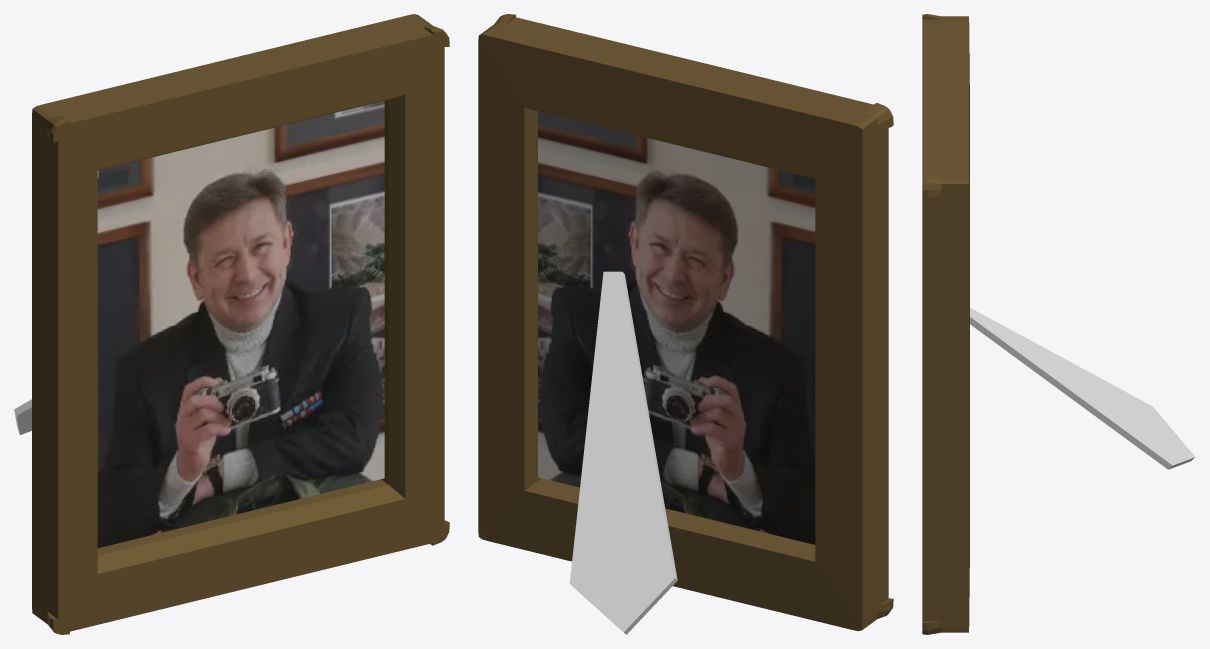
The model's file is portrait_01.glb.
3 renders of one model, left to right at view 1: azimuth 30°, elevation 25°; view 2: azimuth 150°, elevation 25°; view 3: azimuth 270°, elevation 25°, orthographic. The views are drawn at different scales.
Parts seen in each view (by area): view 1: Plane.001, Plane; view 2: Plane.001, Plane, Plane.003; view 3: Plane.001, Plane.003.
Part boxes in pixels (box(x1,y1,x2,y2)): Plane.001: box(32, 14, 449, 634); Plane: box(97, 101, 384, 548); Plane.001: box(478, 14, 893, 630); Plane: box(538, 111, 815, 544); Plane.003: box(569, 271, 677, 634); Plane.001: box(922, 14, 969, 634); Plane.003: box(970, 308, 1195, 469).
Size of the model in its own units: 1.49 by 1.84 by 0.9935.
Materials: 2 (1 with a texture image).
